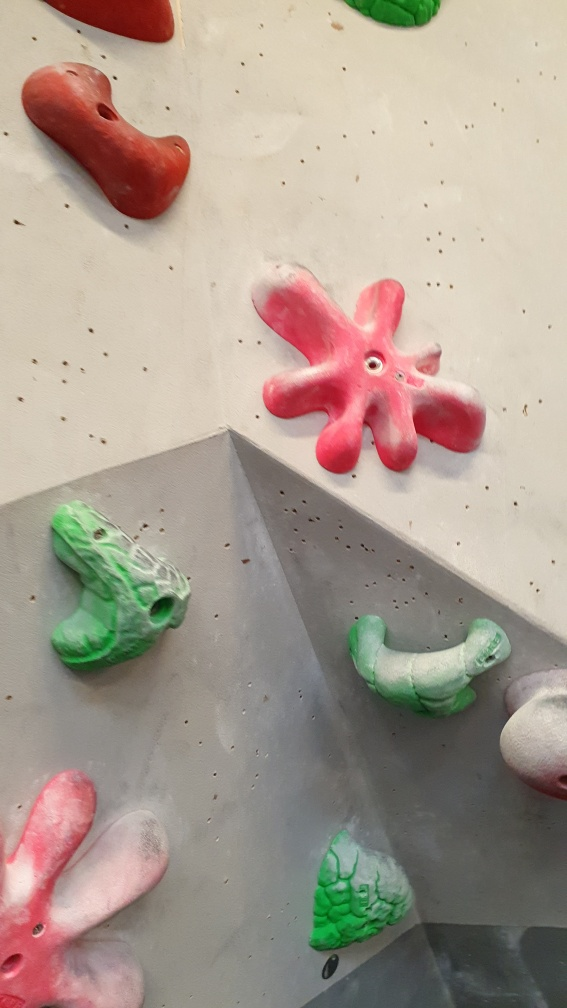Hand Start: (316, 953, 343, 983)
Jug: (347, 610, 516, 728), (302, 825, 417, 955)
Octopus Pinch: (253, 256, 492, 487), (1, 765, 176, 1005)
Sloper: (500, 683, 567, 805)
